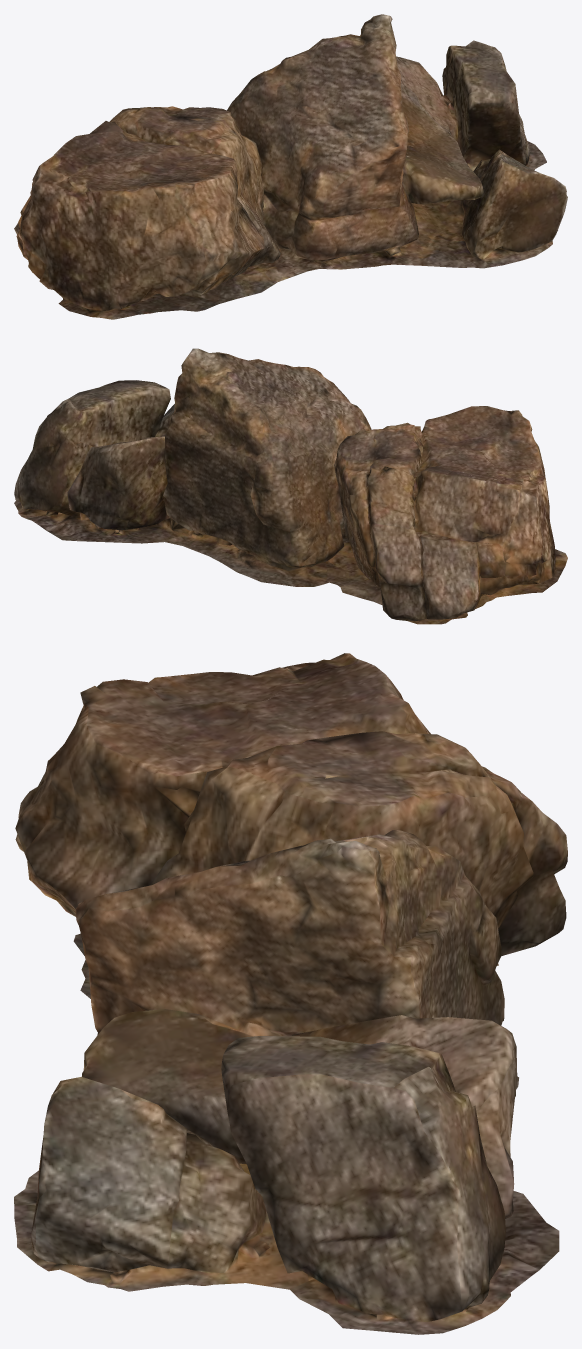
File: namaqualand_boulder_02.glb
3 renders of one model, top to bottom at view 1: azimuth 30°, elevation 25°; view 2: azimuth 150°, elevation 25°; view 3: azimuth 270°, elevation 25°, orthographic. The views are drawn at different scales.
Parts seen in each view (by area): view 1: boulder_02; view 2: boulder_02; view 3: boulder_02.
Part boxes in pixels (x1=…): boulder_02: x1=14, y1=14, x2=567, y2=319; boulder_02: x1=14, y1=348, x2=567, y2=624; boulder_02: x1=14, y1=653, x2=567, y2=1334.
Bounding box in the file's own units: 2.53 × 0.8805 × 1.23.
Materials: 1 (1 with a texture image).
